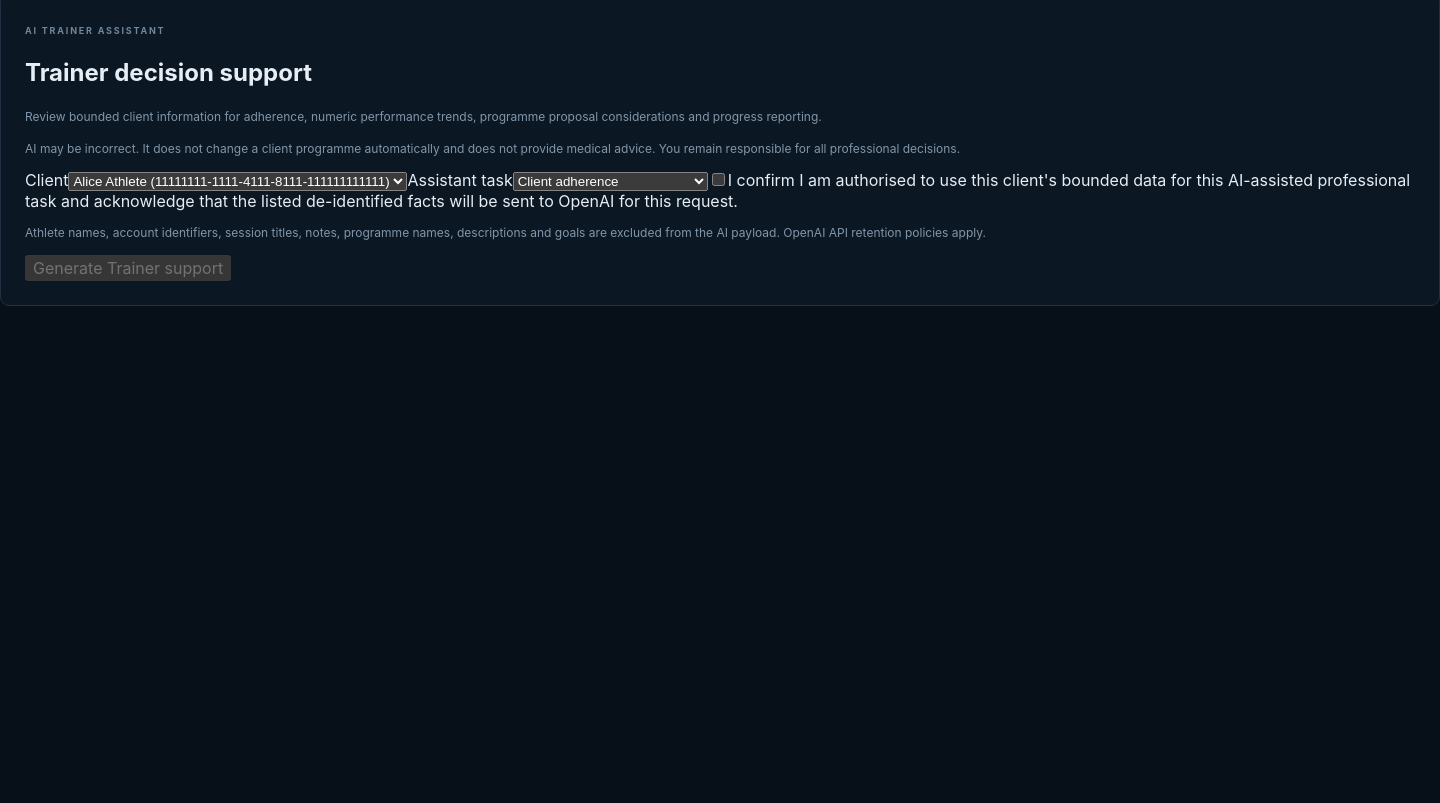
Test case: TrainerAiAssistant › generates a selected Trainer AI task and displays explanation and limitations
Select "Progress report" in the dropdown labelled "Assistant task". click: {"x": 610, "y": 182}
box: [513,172,708,191]
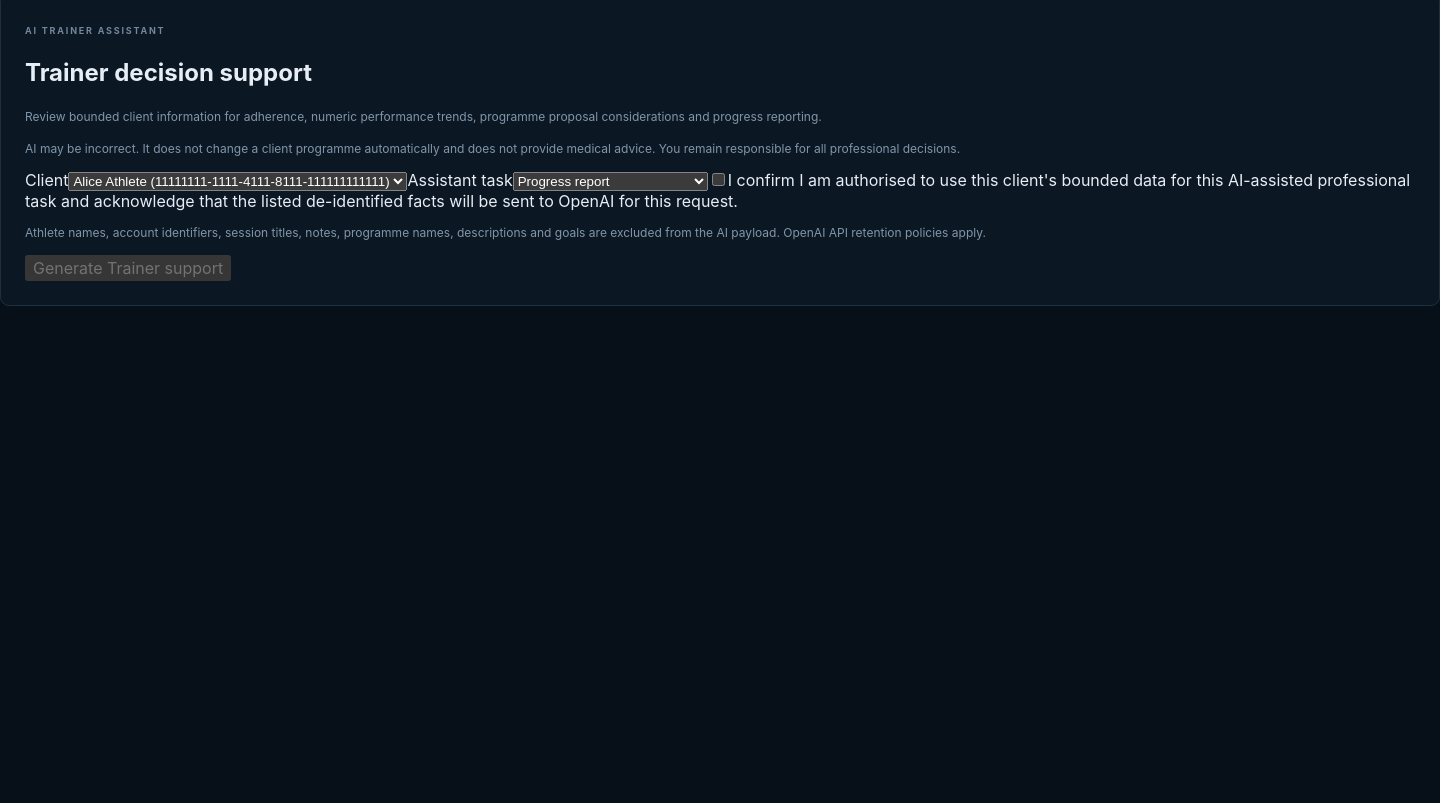
Click the checkbox. click: {"x": 718, "y": 180}
box: [712,173,725,186]
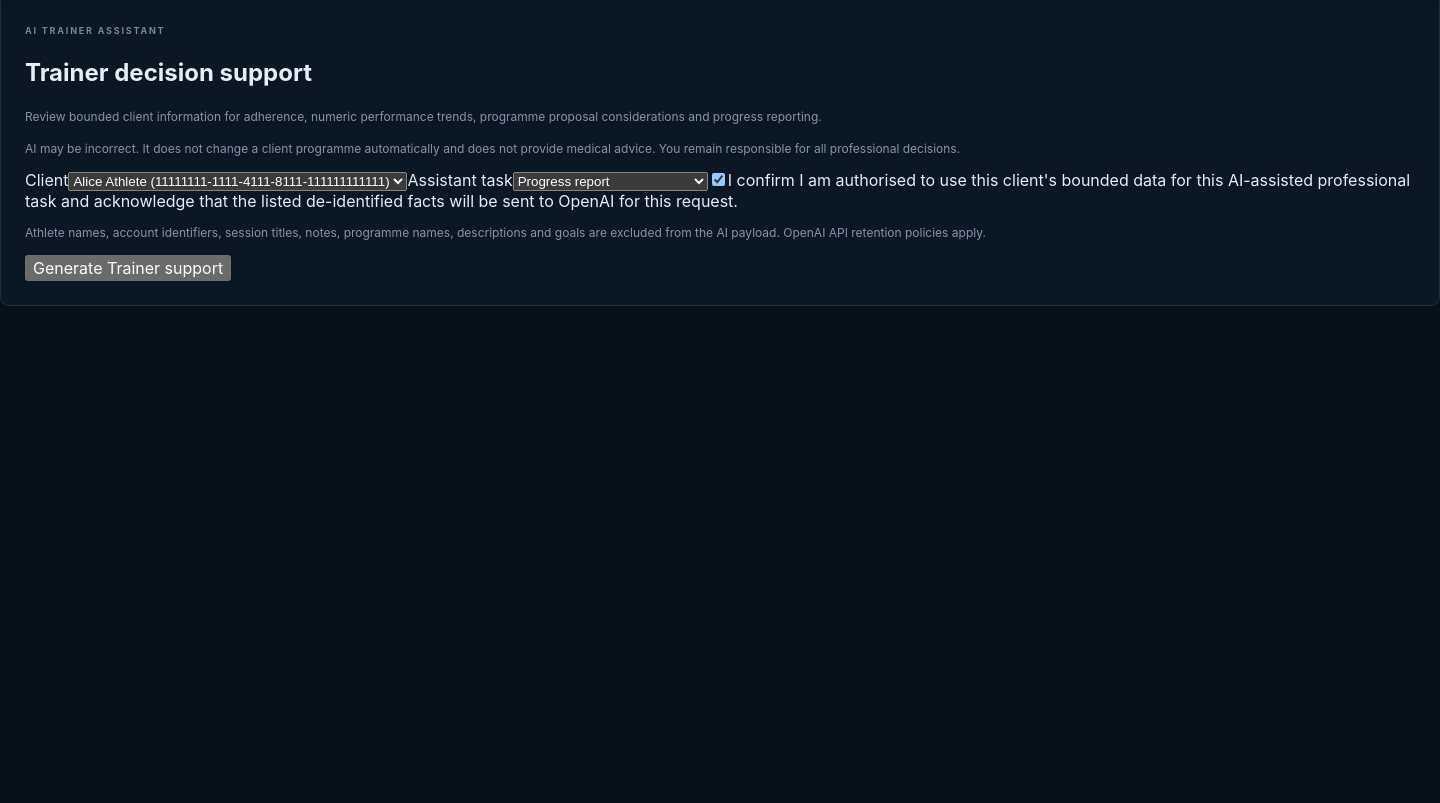
Click the button "Generate Trainer support". click: {"x": 128, "y": 268}
box: [25,255,231,281]
(page scrolled)
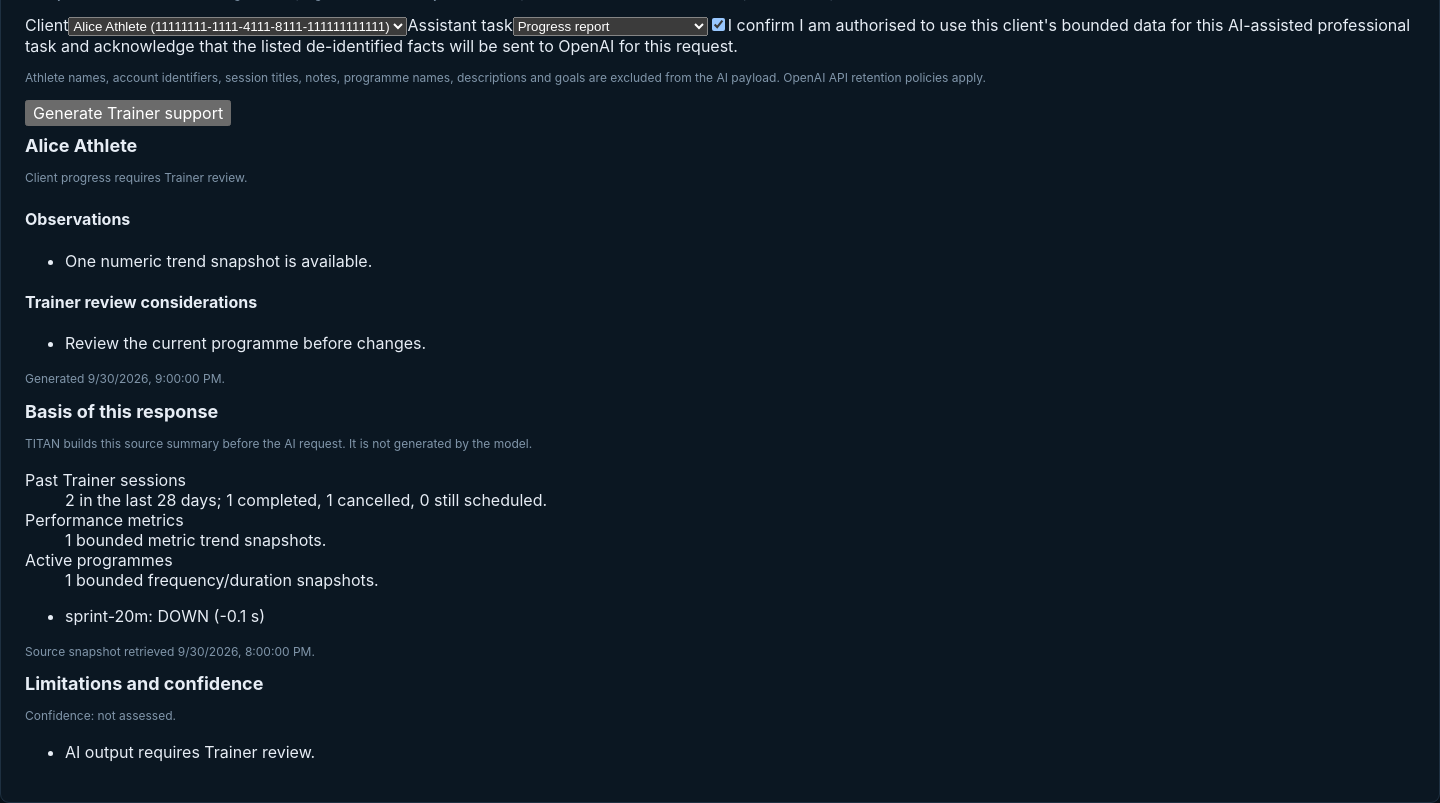
Expected: the text "Client progress requires Trainer review." is shown, [25,170,247,185]
Expected: the element named "Trainer AI source explanation" is shown, [25,401,547,659]
Expected: the text "Confidence: not assessed." is shown, [25,708,176,724]
